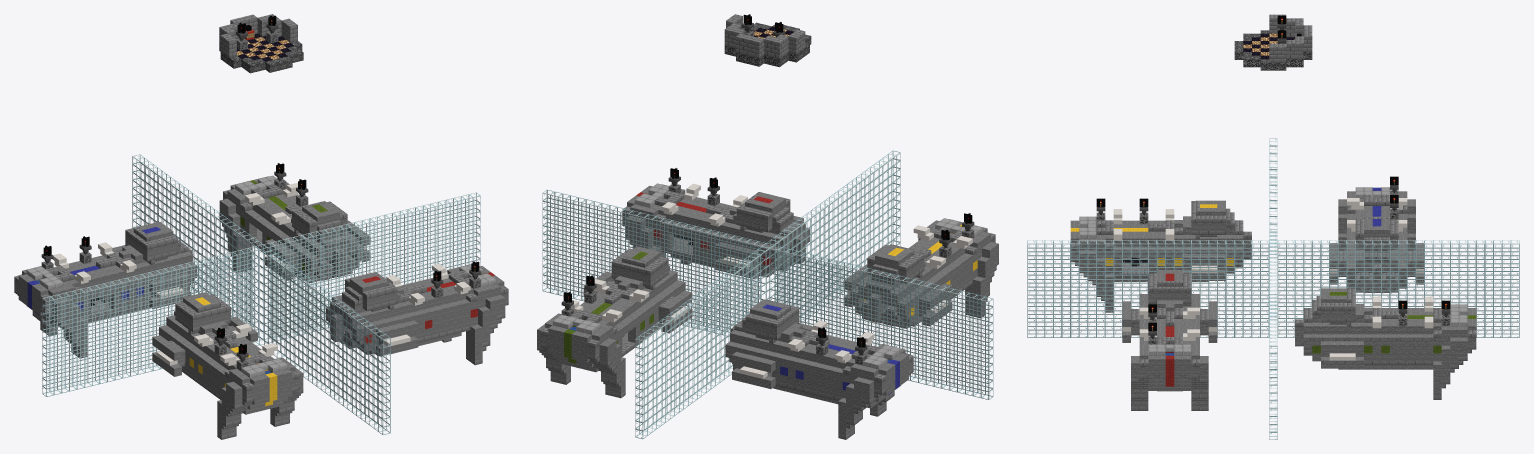
Rendered from minecraft.obj.
3 renders of one model, left to right at view 1: azimuth 30°, elevation 25°; view 2: azimuth 150°, elevation 25°; view 3: azimuth 270°, elevation 25°, orthographic. The views are drawn at different scales.
Bounding box in the file's own units: 57 × 40.5 × 57.
